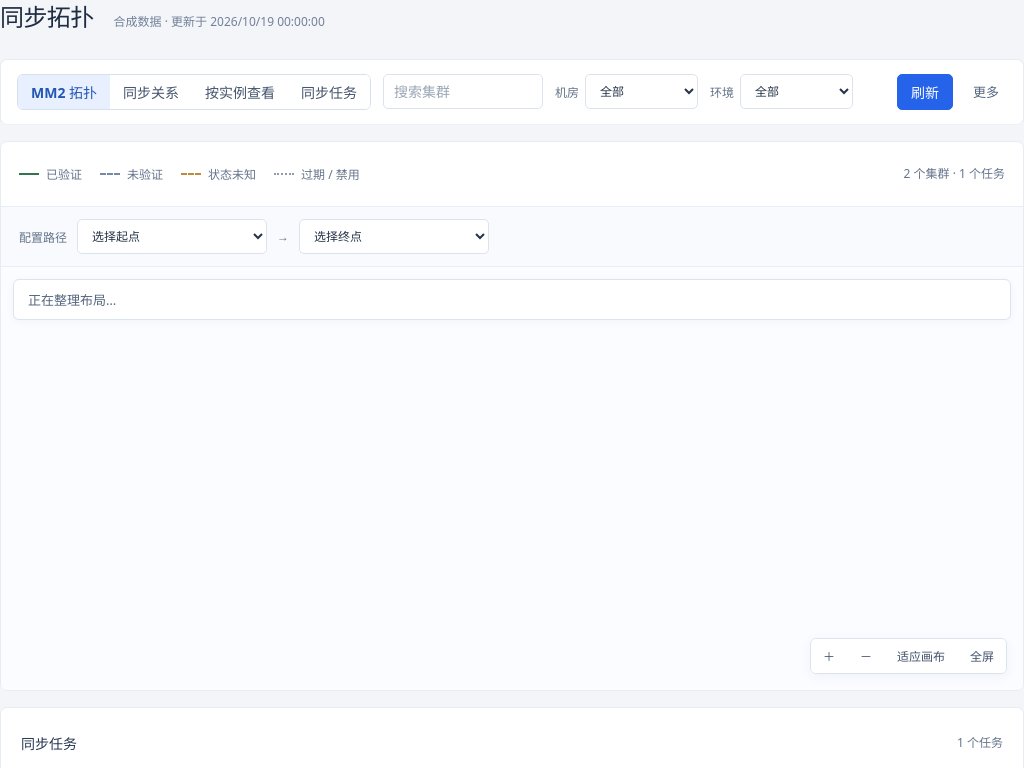
Test: keeps instance rows available separately from the default continuous topology
The image size is (1024, 768).
Click the button "按实例查看". click: [240, 92]
box: [192,75,288,109]
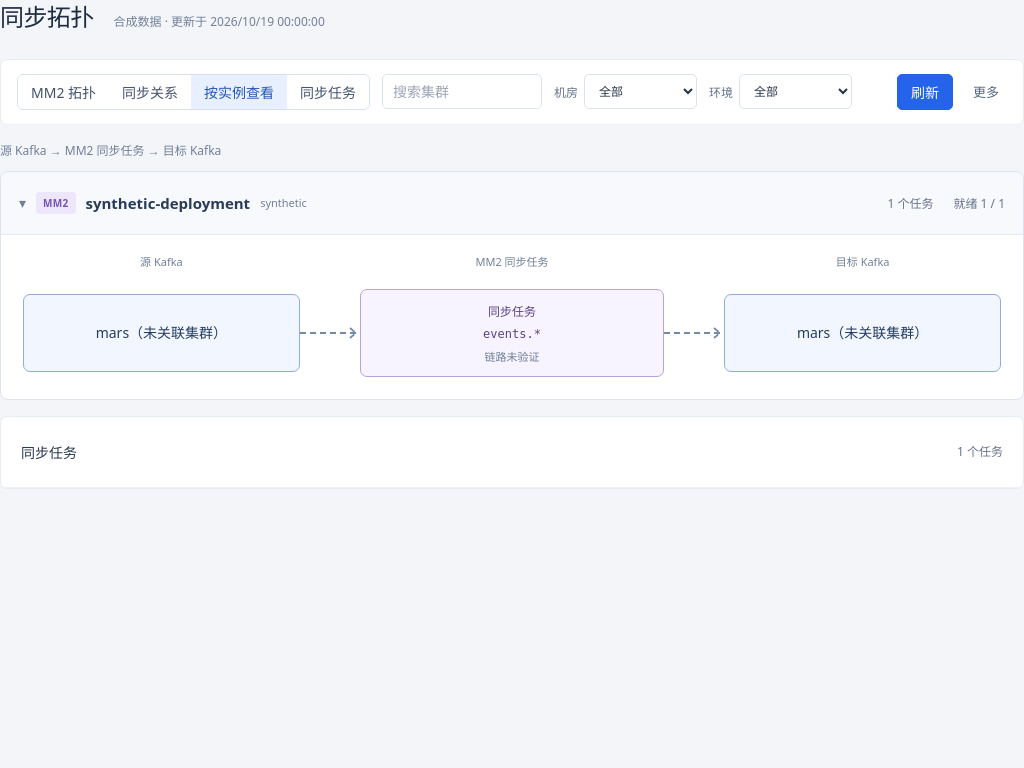
Click the button "MM2 拓扑". click: [64, 92]
box: [18,75,109,109]
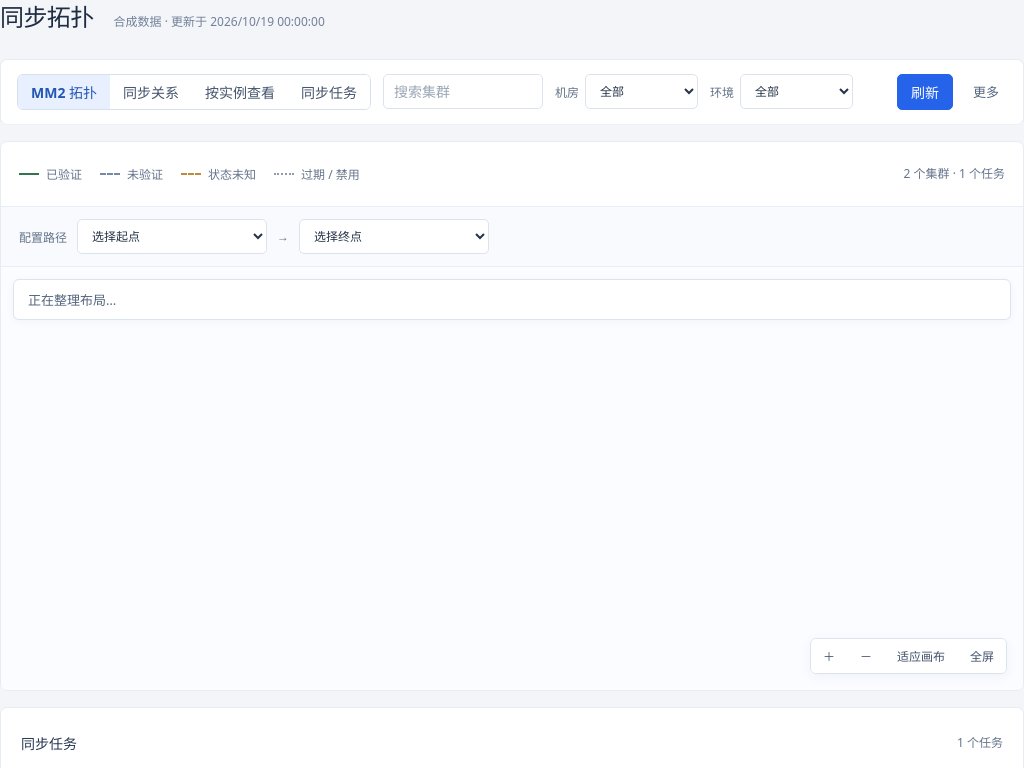
Expected: the dropdown named "路径起点" is shown, [77,219,267,254]
Expected: the dropdown named "路径终点" is shown, [299,219,489,254]
